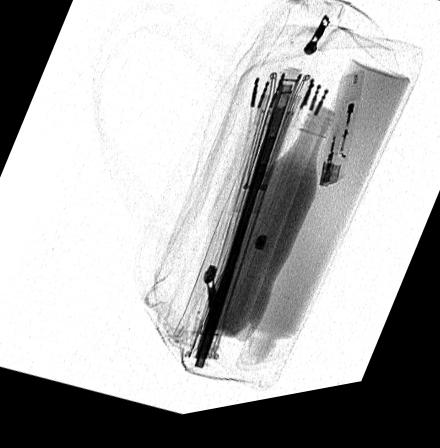Lighter: (318, 82, 366, 200)
